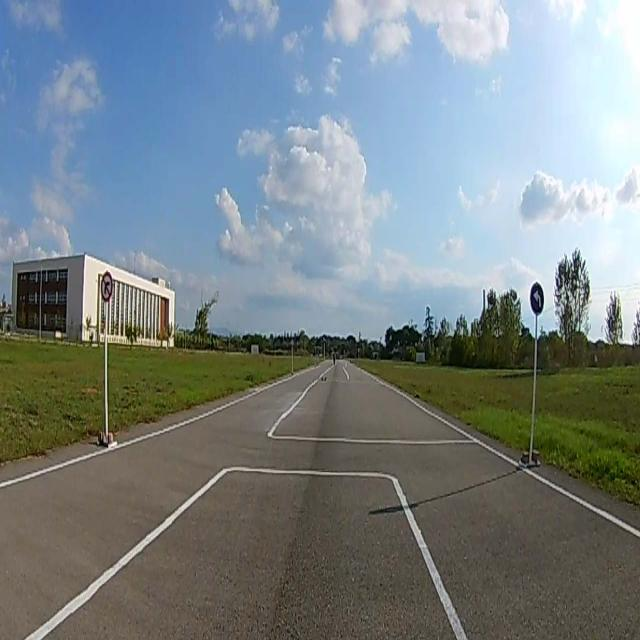sagadonulmez: (101, 272, 113, 300)
sol: (530, 282, 544, 314)
